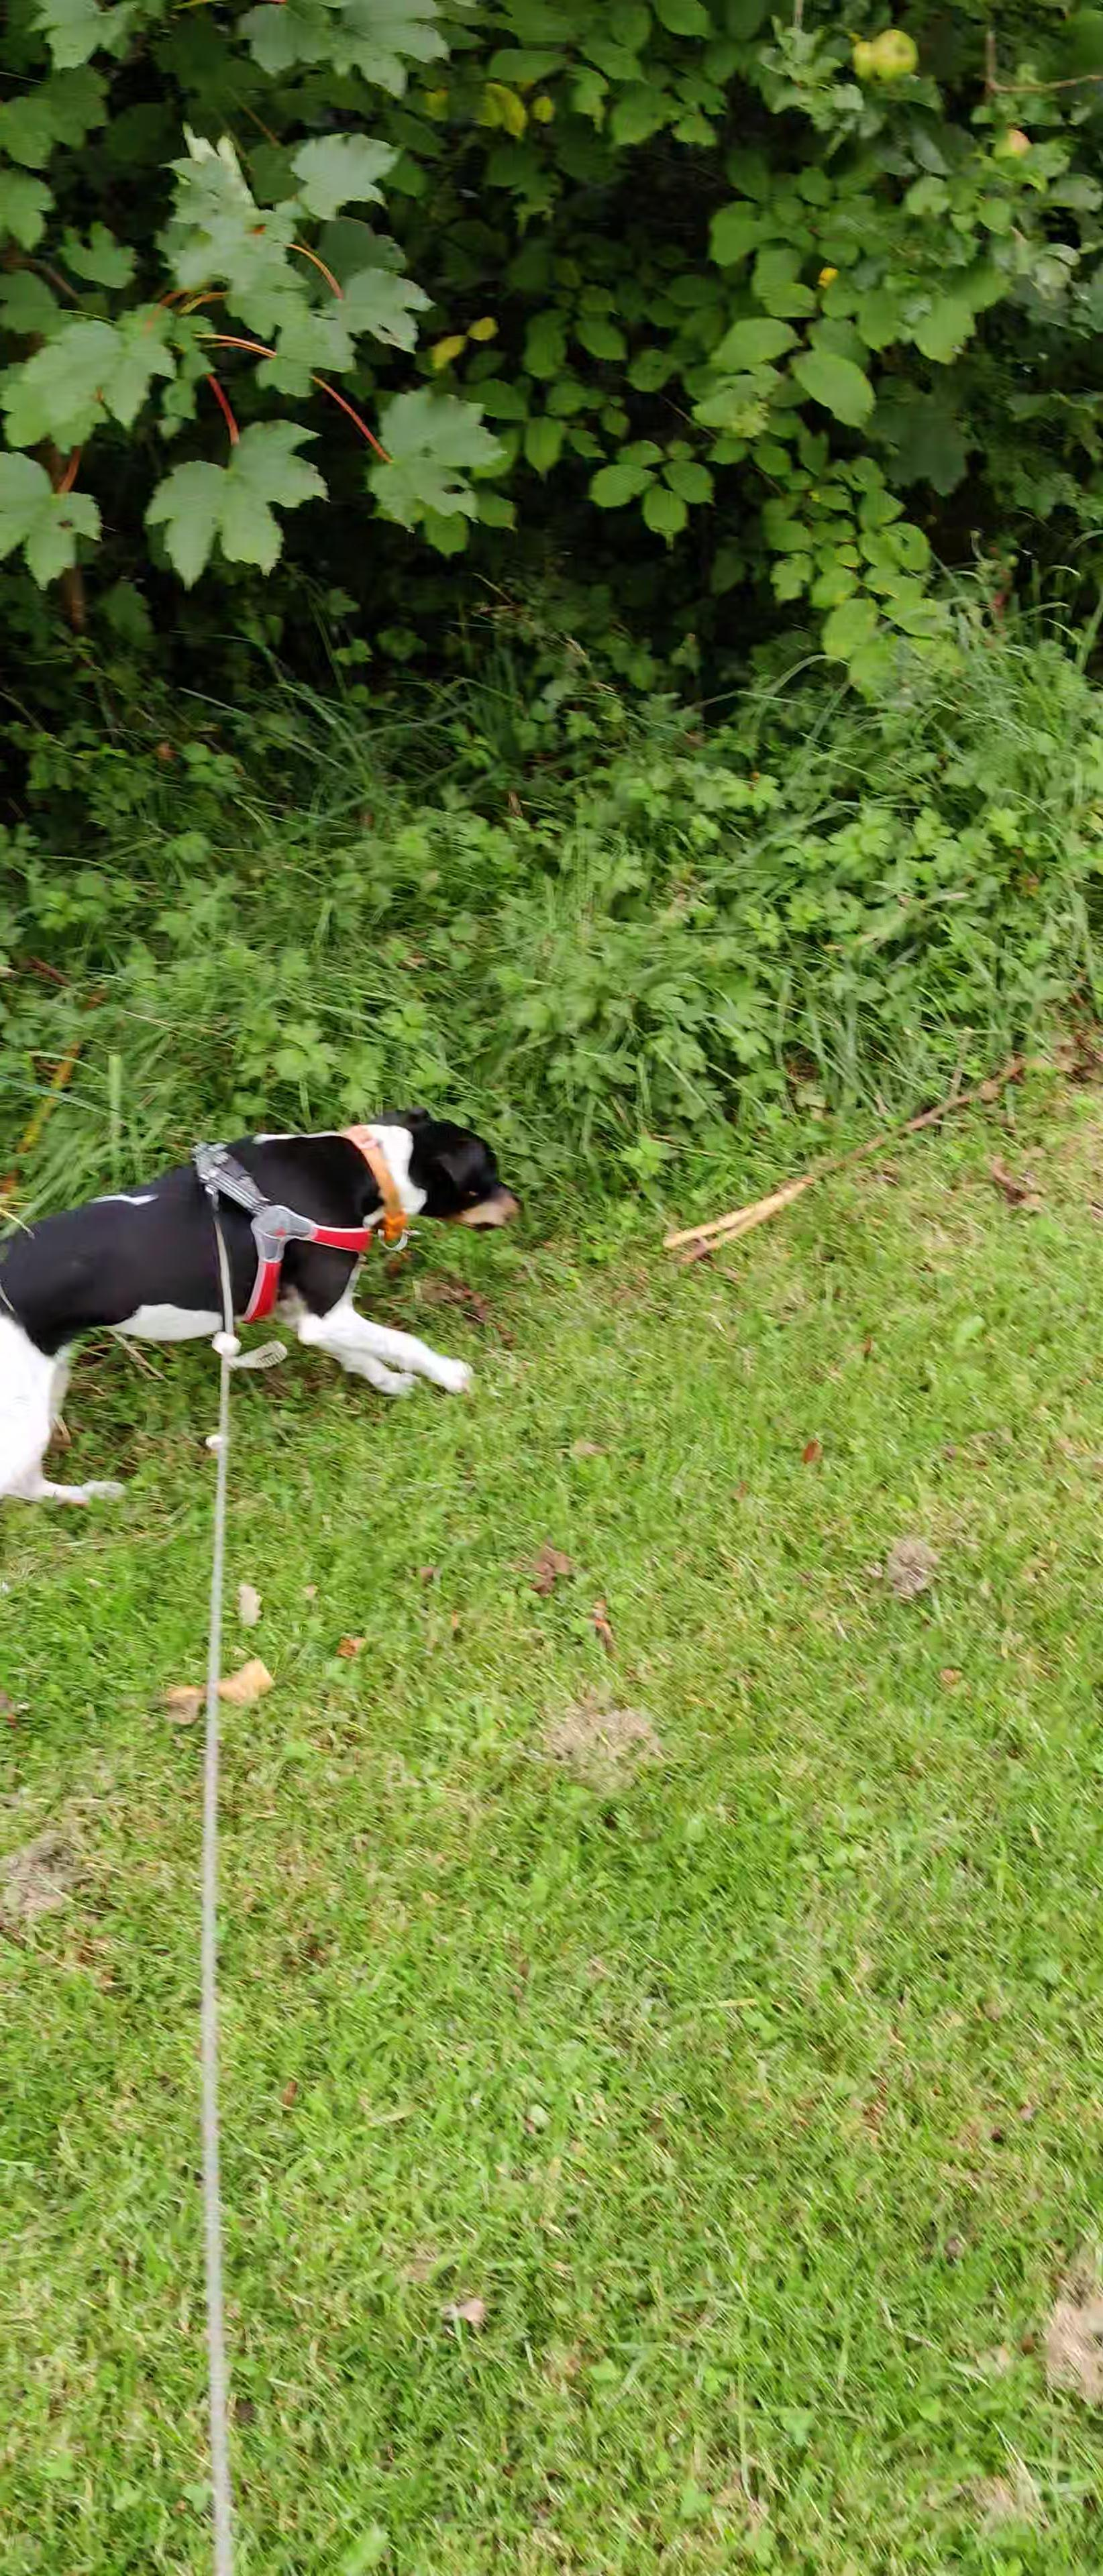Dog: (0, 1104, 526, 1513)
